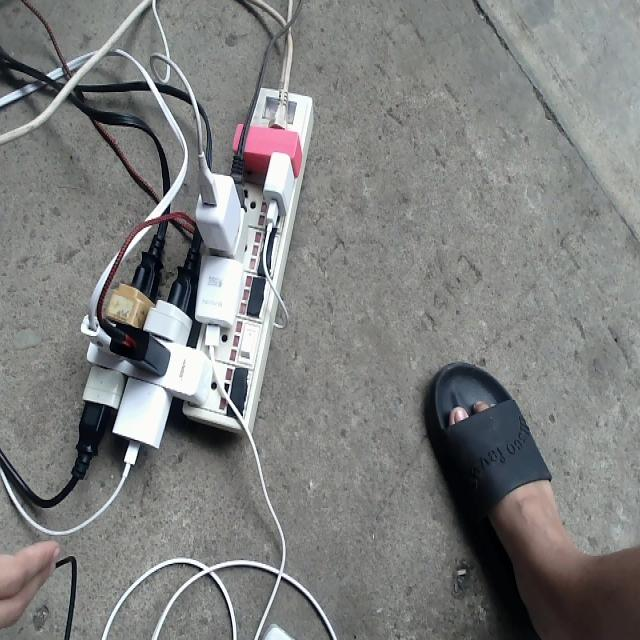-: (66, 86, 315, 482)
